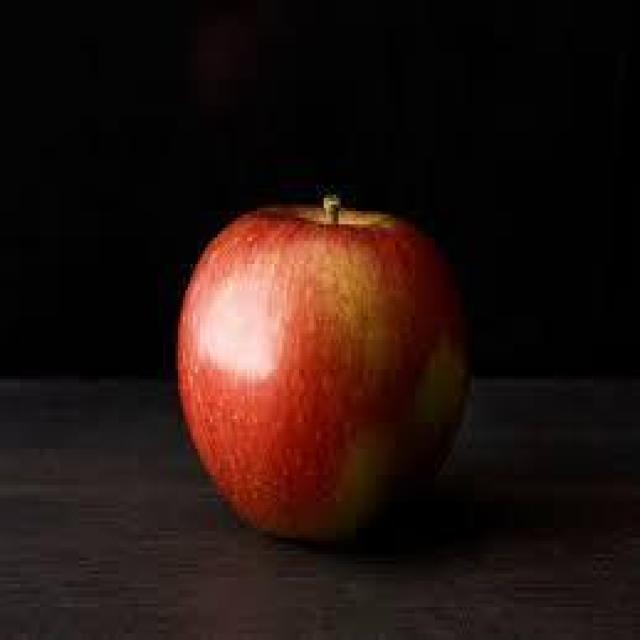maca: (173, 188, 472, 541)
